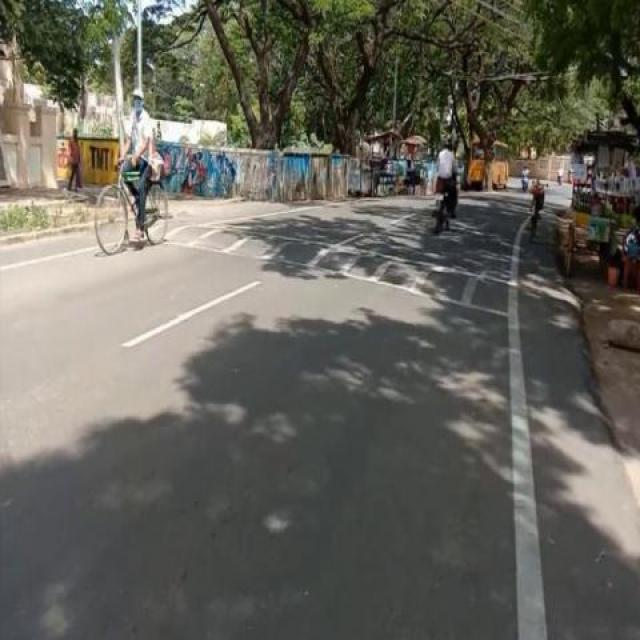Speed Bump: (95, 217, 562, 316)
